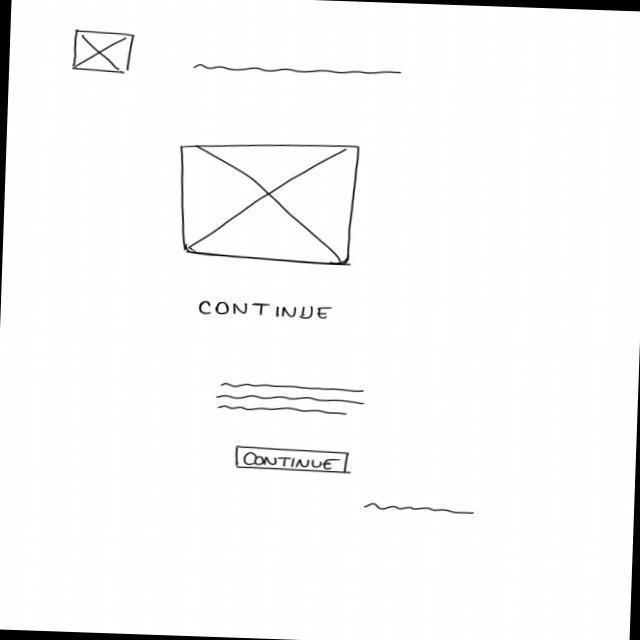button: (233, 444, 353, 475)
image: (175, 138, 361, 267), (69, 29, 136, 77)
label: (195, 299, 335, 323)
text: (190, 60, 404, 80), (364, 500, 478, 519)
textbox: (214, 379, 370, 418)
